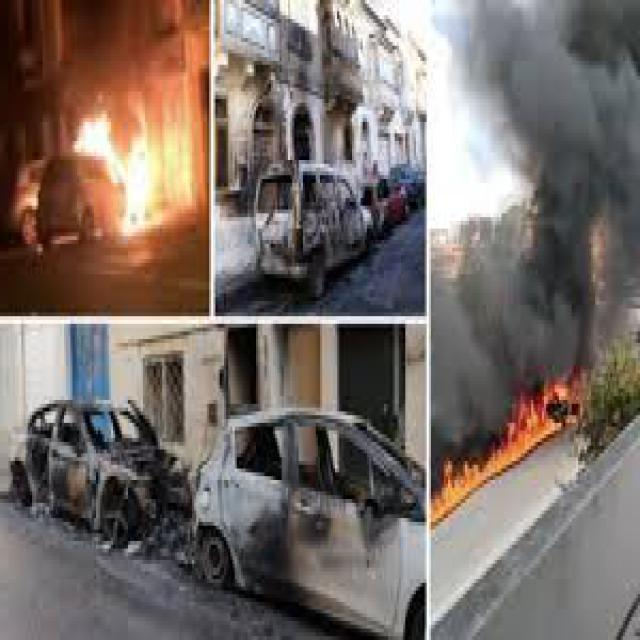Fire: (432, 354, 594, 532), (64, 106, 159, 230)
Smoke: (506, 5, 638, 340)
